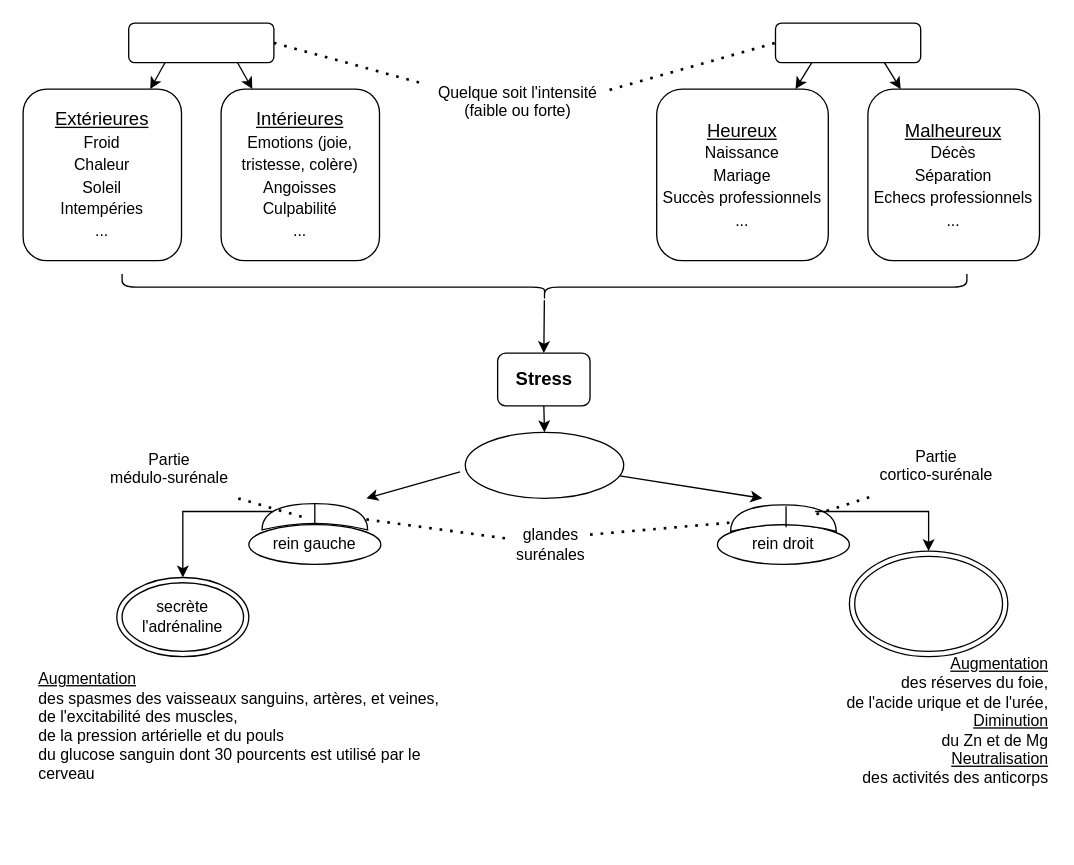
Some shapes in this 1074 by 865 pixel diagram are drawn without their labels. The shapes that lost their labels are listed below. From the top down, each one's centre as x and y in pixels, then its label:
[200,42]: Stimulations
[847,42]: Evénèments
[544,464]: Hypothalamus
[928,603]: secrète l'aldostérone, la cortisone et le cortisol
